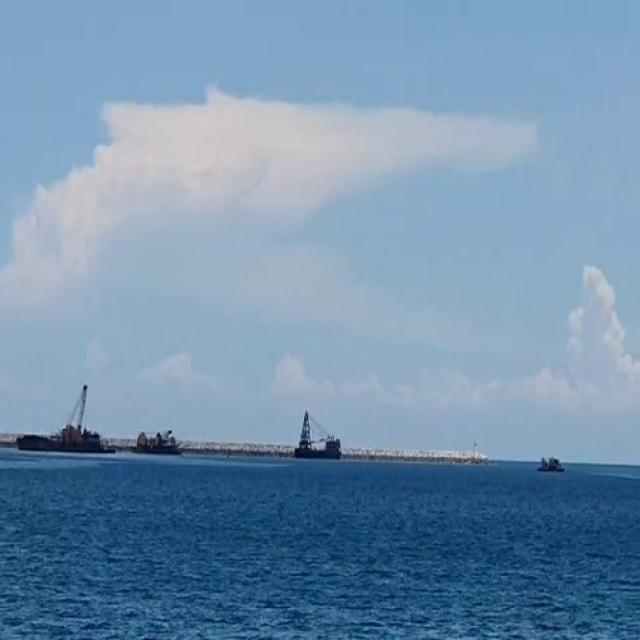civilianship: (6, 377, 113, 473), (280, 411, 354, 476), (129, 407, 184, 469), (537, 450, 570, 489)
